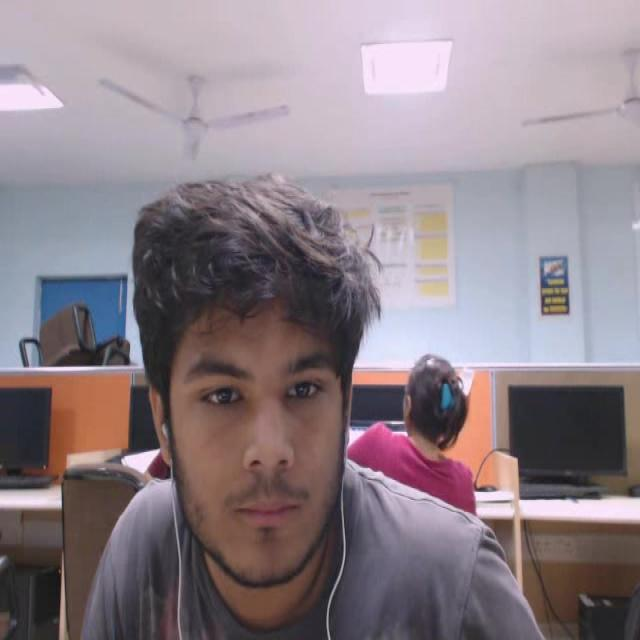Engaged: (108, 137, 420, 613)
